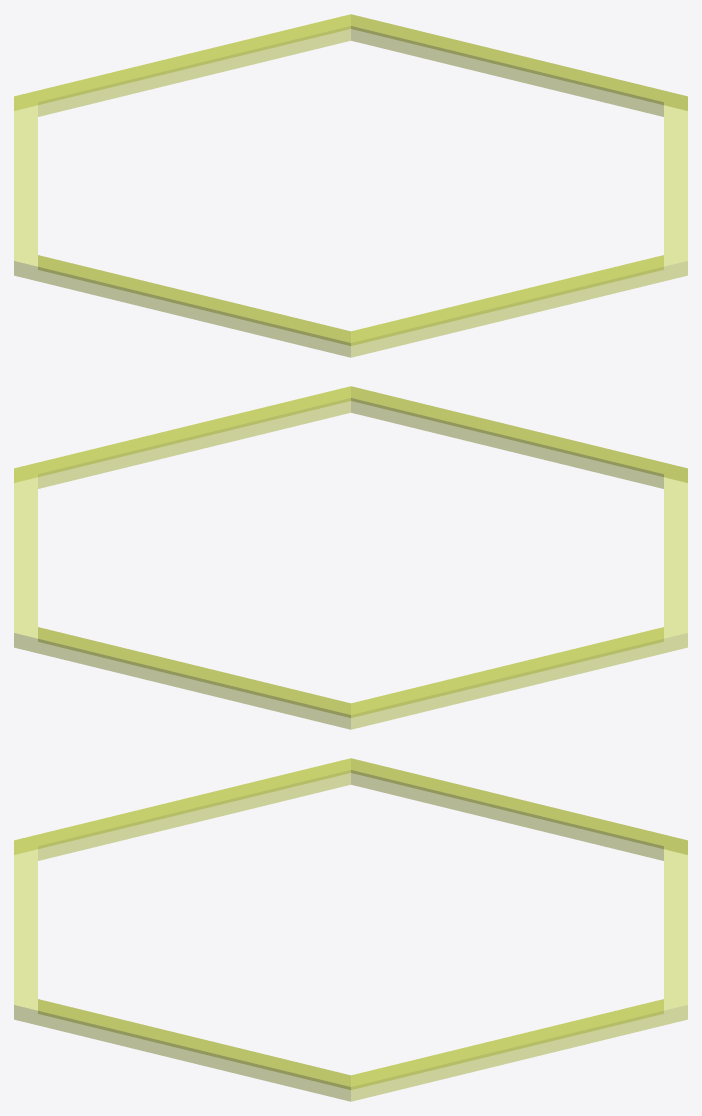
The model's file is HexCellSelection.fbx.
The picture shows the model from 3 angles, top to bottom: view 1: azimuth 30°, elevation 25°; view 2: azimuth 150°, elevation 25°; view 3: azimuth 270°, elevation 25°; orthographic projection.
Visible parts, largest first — view 1: pCylinder2; view 2: pCylinder2; view 3: pCylinder2.
Boxes of the visible parts, x1,y1,x2,y2 form: pCylinder2: (14, 14, 687, 357); pCylinder2: (14, 386, 687, 729); pCylinder2: (14, 758, 687, 1101).
Size of the model in its own units: 115 by 2.42 by 99.57.
